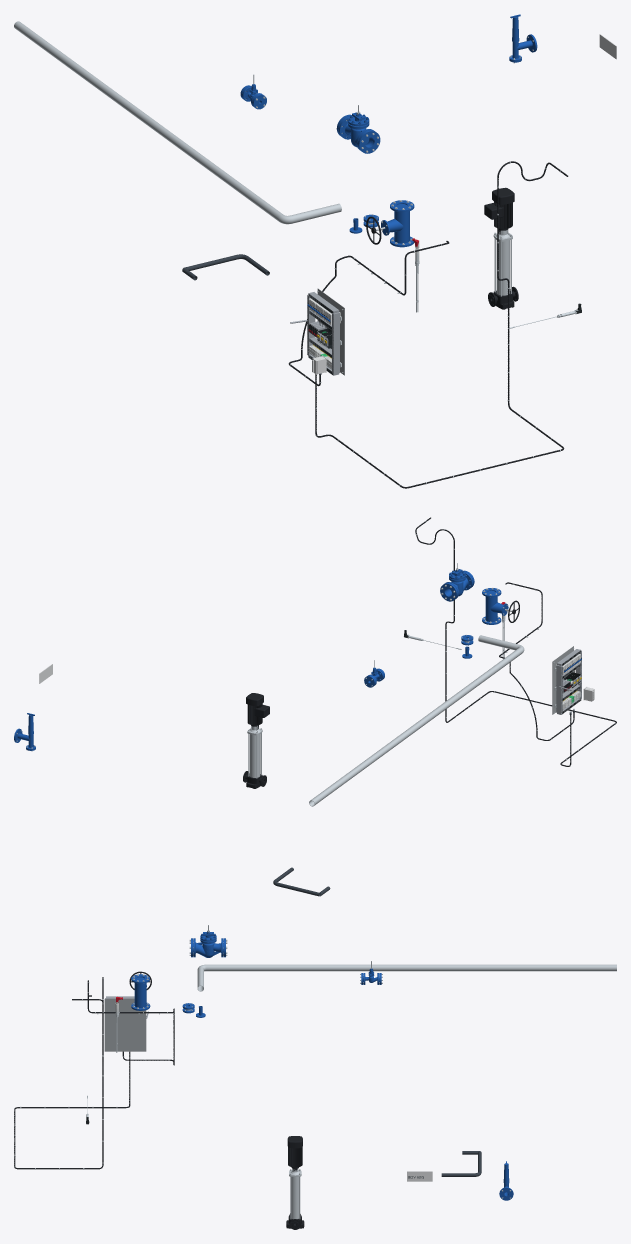
3 views of the same model, one above another, from view 1: azimuth 30°, elevation 25°; view 2: azimuth 150°, elevation 25°; view 3: azimuth 270°, elevation 25° (orthographic). The views are drawn at different scales.
Visible parts, largest first — view 1: safety_vent_1 / steel, cabinet_interior / cabinet_interior_0.npz, wiring_pressure_switch_1 / black, steam_manual / blue, pump_2 CAD solid 15, gpz CAD solid 0, pump_2 CAD solid 2, wiring_lcs600 / black; view 2: safety_vent_1 / steel, cabinet_interior / cabinet_interior_0.npz, wiring_pressure_switch_1 / black, steam_manual / blue, pump_2 CAD solid 15, pump_2 CAD solid 2; view 3: safety_vent_1 / steel, cabinet_interior / cabinet_interior_0.npz, wiring_pressure_switch_1 / black, gpz CAD solid 0, steam_manual / blue, pump_2 CAD solid 15, wiring_lcs600 / black.
Part boxes in pixels (box(x1,y1,x2,y2)): safety_vent_1 / steel: box(14, 21, 341, 224); cabinet_interior / cabinet_interior_0.npz: box(290, 288, 344, 375); wiring_pressure_switch_1 / black: box(315, 161, 568, 488); steam_manual / blue: box(381, 200, 414, 247); pump_2 CAD solid 15: box(484, 187, 514, 229); gpz CAD solid 0: box(338, 105, 373, 149); pump_2 CAD solid 2: box(496, 240, 509, 295); wiring_lcs600 / black: box(288, 241, 449, 386); safety_vent_1 / steel: box(309, 635, 524, 806); cabinet_interior / cabinet_interior_0.npz: box(552, 646, 581, 714); wiring_pressure_switch_1 / black: box(415, 517, 616, 766); steam_manual / blue: box(482, 588, 508, 624); pump_2 CAD solid 15: box(246, 693, 269, 725); pump_2 CAD solid 2: box(249, 734, 260, 777); safety_vent_1 / steel: box(197, 964, 616, 991); cabinet_interior / cabinet_interior_0.npz: box(104, 996, 148, 1051); wiring_pressure_switch_1 / black: box(14, 977, 130, 1169); gpz CAD solid 0: box(193, 925, 223, 957); steam_manual / blue: box(131, 974, 150, 1010); pump_2 CAD solid 15: box(287, 1136, 302, 1167); wiring_lcs600 / black: box(87, 980, 174, 1065).
Size of the model in its own units: 5.19 by 2.95 by 7.03.
